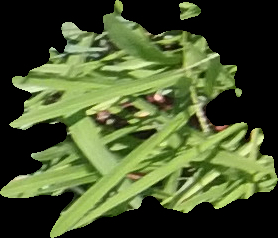grass: (2, 1, 276, 236)
